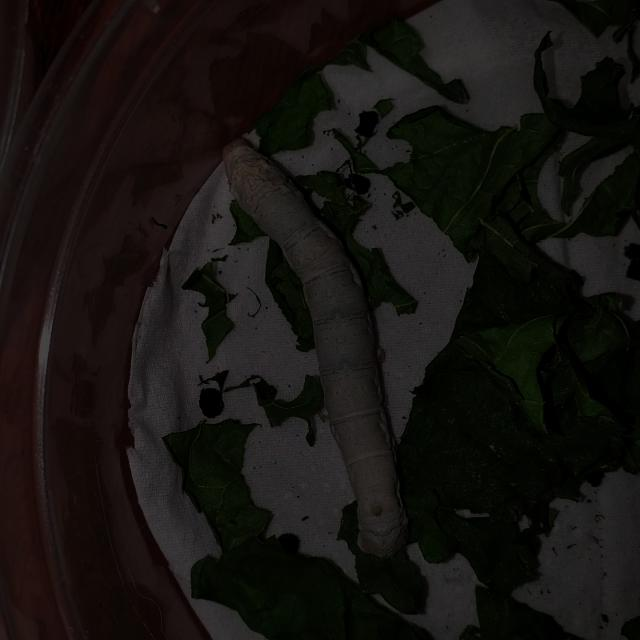Healthy: (177, 106, 432, 600)
